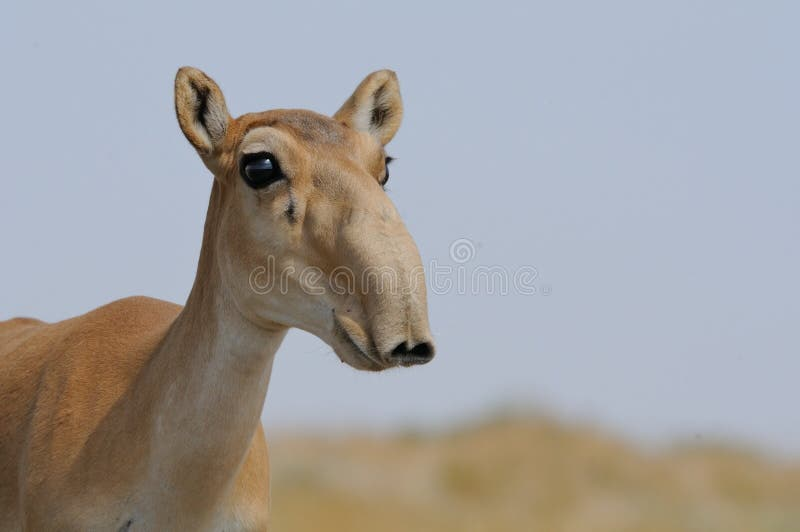saiga: (1, 61, 438, 530)
